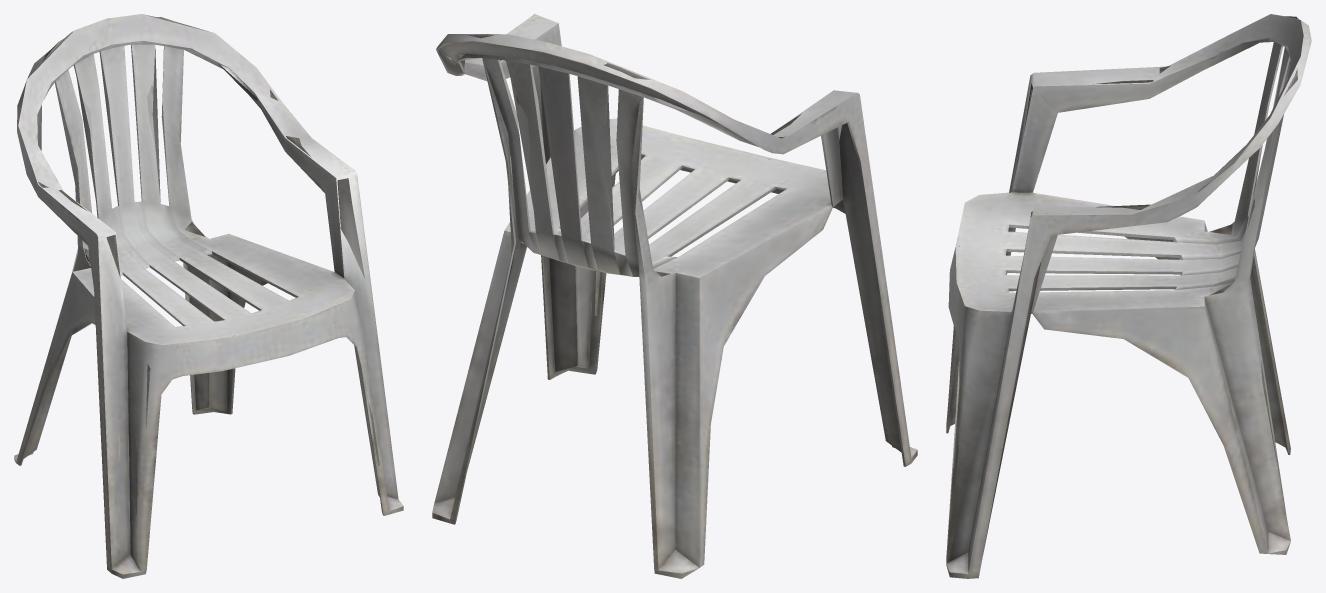
The model's file is plastic_monobloc_chair_01.glb.
3 renders of one model, left to right at view 1: azimuth 30°, elevation 25°; view 2: azimuth 150°, elevation 25°; view 3: azimuth 270°, elevation 25°, orthographic. The views are drawn at different scales.
Visible parts, largest first — view 1: plastic_monobloc_chair_01; view 2: plastic_monobloc_chair_01; view 3: plastic_monobloc_chair_01.
Boxes of the visible parts, x1,y1,x2,y2 form: plastic_monobloc_chair_01: (14,14,403,578); plastic_monobloc_chair_01: (432,14,917,578); plastic_monobloc_chair_01: (946,14,1311,578).
Bounding box in the file's own units: 0.6419 × 0.8798 × 0.6276.
Materials: 1 (1 with a texture image).
